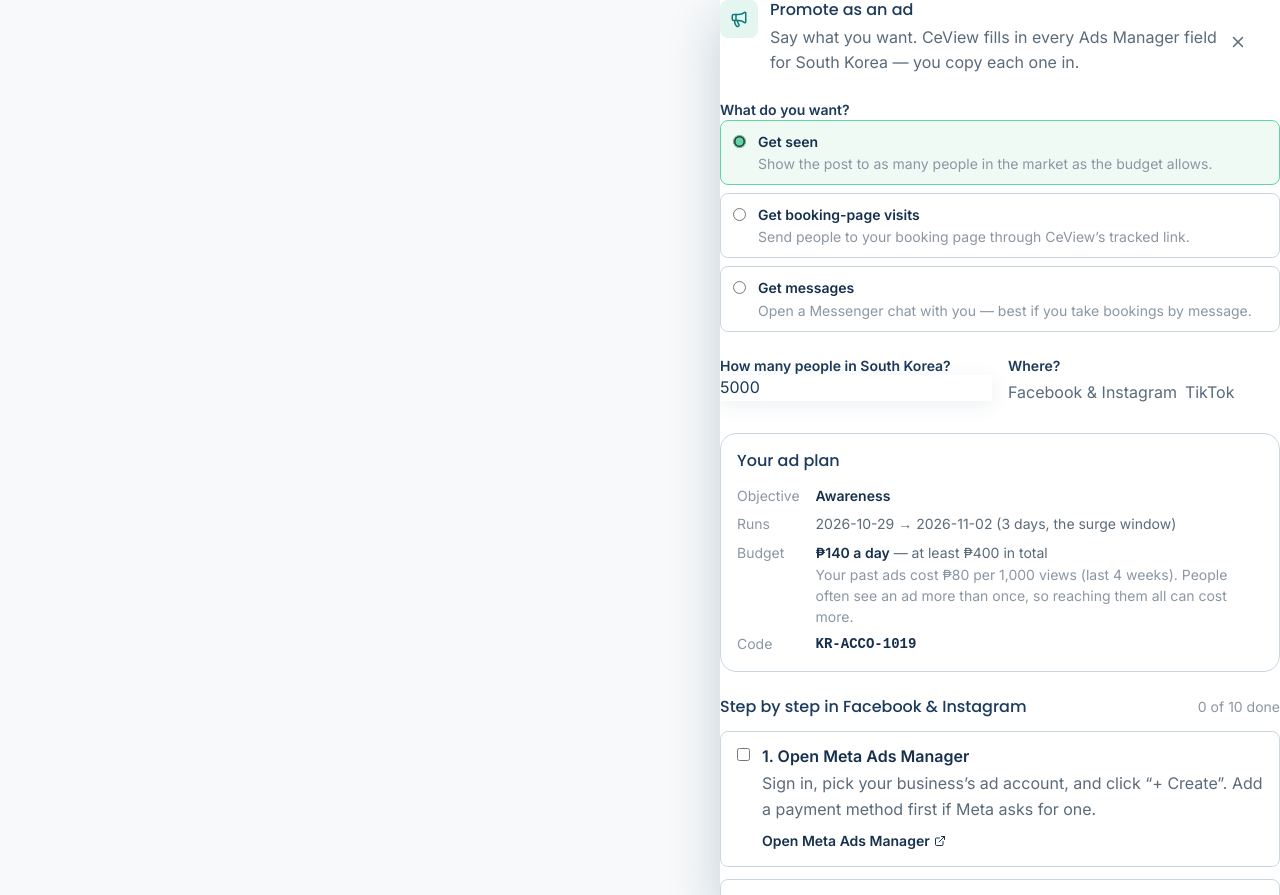
AdPlannerDrawer › tracks progress through the steps
expect the element "Your ad plan" is shown: met, box [720,433,1279,672]
Click the checkbox named "Mark \"Open Meta Ads Manager\" done".
click(744, 754)  # box [737,748,750,761]
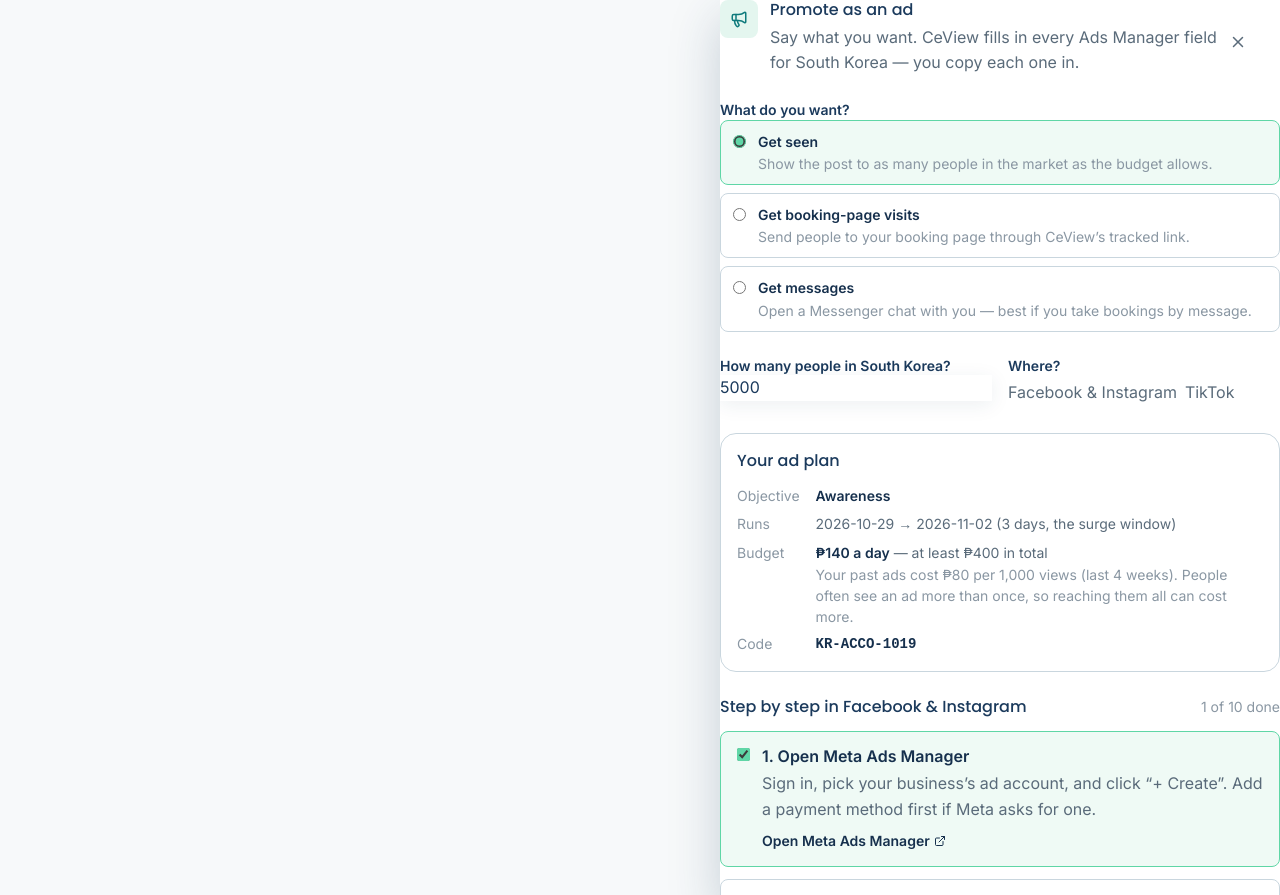
expect the text "1 of 10 done" is shown: met, box [1201,696,1279,717]
